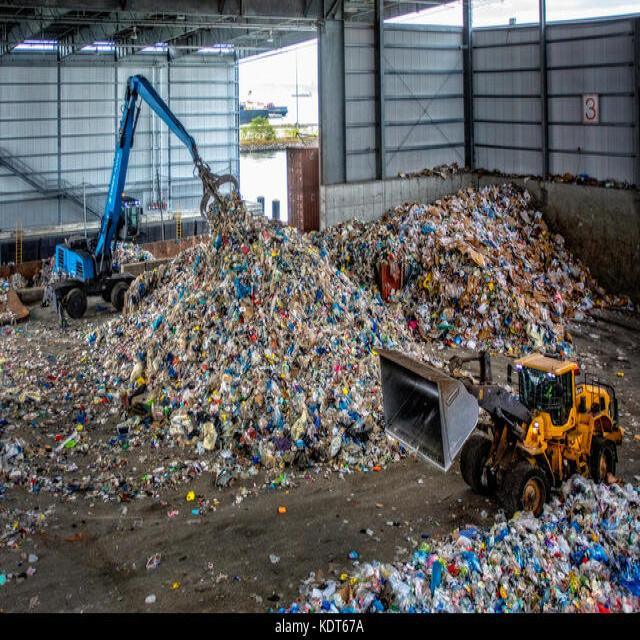plastic: (443, 536, 608, 606)
trash: (164, 251, 355, 445), (404, 208, 543, 331)
